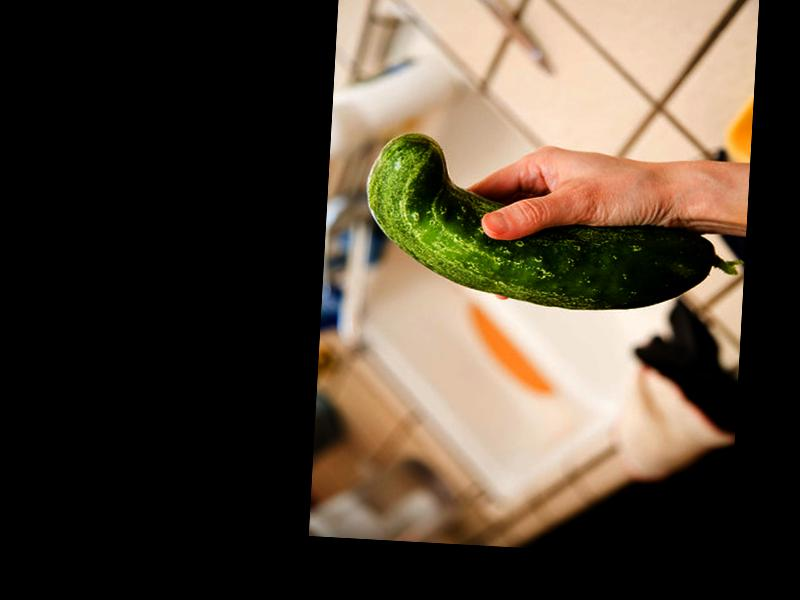Cucumber: (360, 131, 744, 319)
